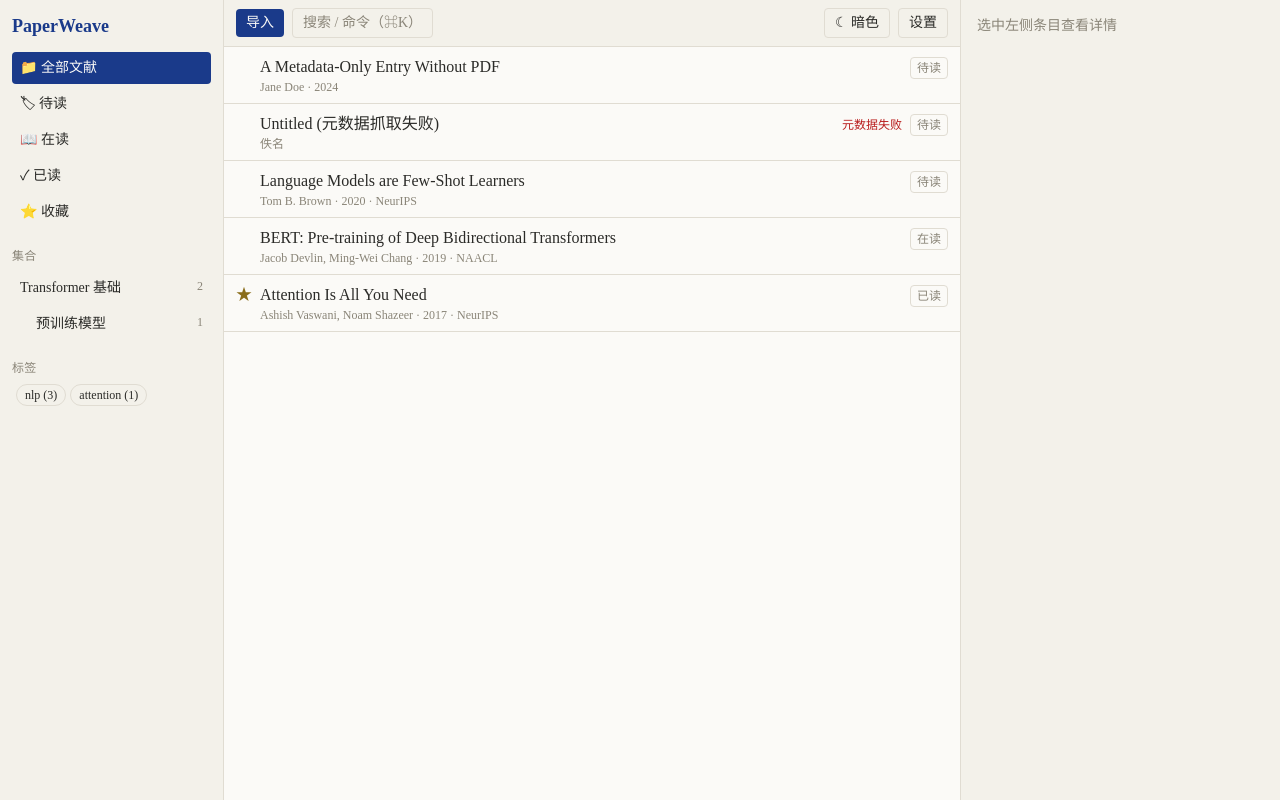
Test: LibraryPage 条目选中 + 预览面板 › 点击条目 → 右侧预览面板显示元数据与摘要
Expected: the element named "AI 预览面板" reads "选中左侧条目查看详情", top-left (977, 18), bottom-right (1117, 33)
Click the text "Attention Is All You Need" at (343, 294), box top-left (260, 286), bottom-right (427, 303)
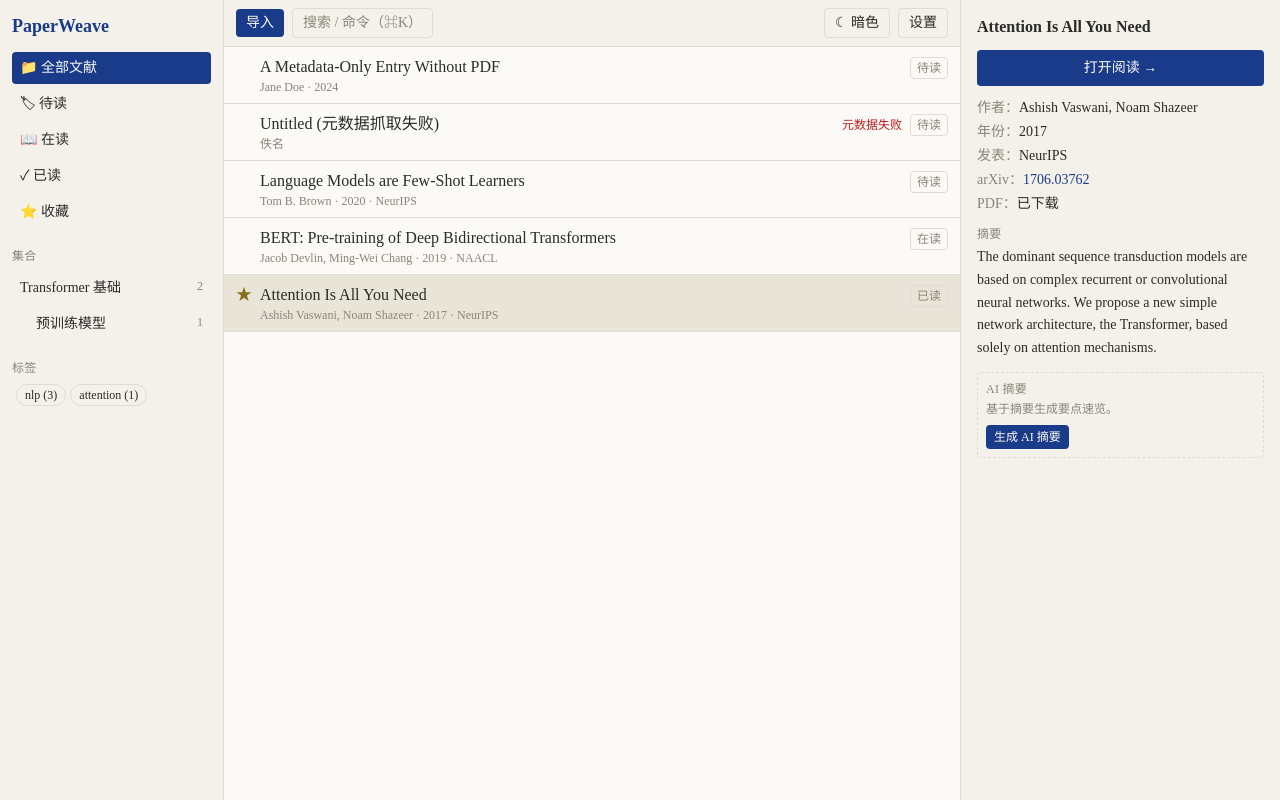
Expected: the element named "AI 预览面板" shows "Ashish Vaswani", top-left (1019, 100), bottom-right (1198, 115)
Expected: the element named "AI 预览面板" shows "NeurIPS", top-left (1019, 148), bottom-right (1067, 163)
Expected: the element named "AI 预览面板" shows "Transformer", top-left (977, 249), bottom-right (1247, 355)
